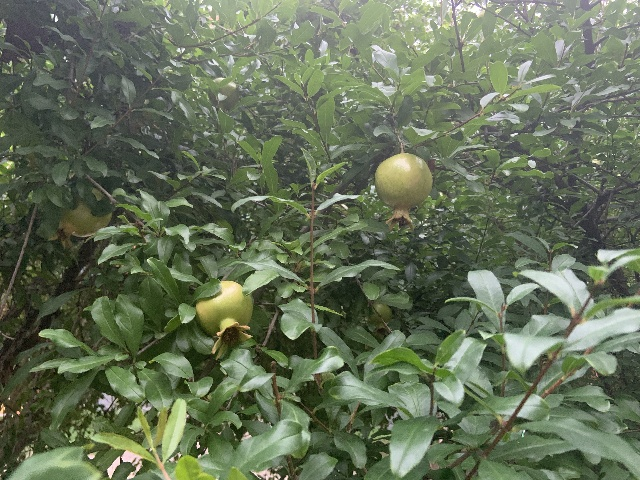mid-growth: (374, 152, 432, 231), (196, 280, 253, 359), (48, 188, 112, 249), (207, 77, 238, 113), (369, 303, 392, 335)
